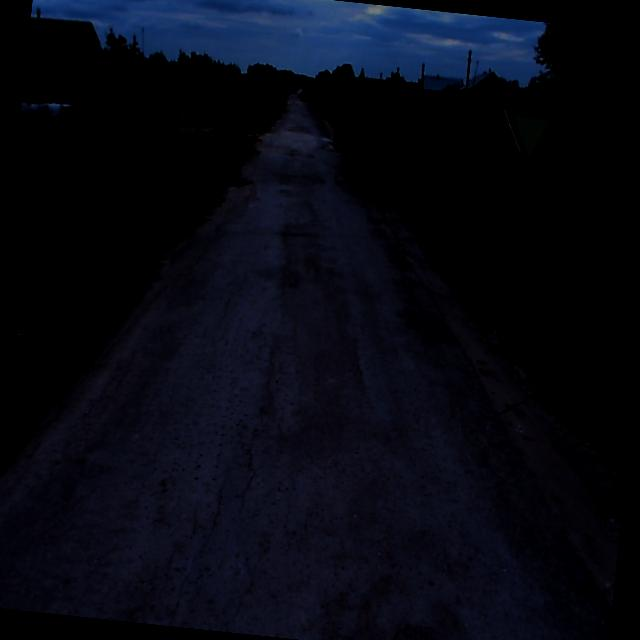road: (0, 93, 611, 640)
